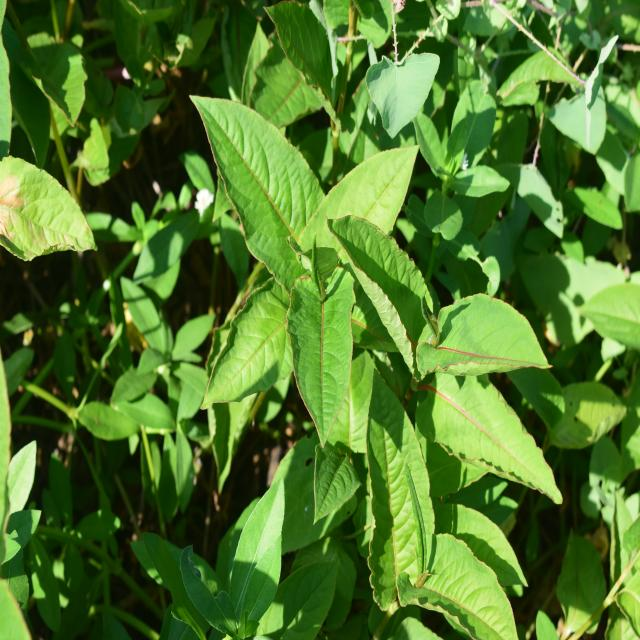Chinese_knotweed: (197, 90, 435, 443), (352, 207, 562, 520), (340, 394, 528, 630)
